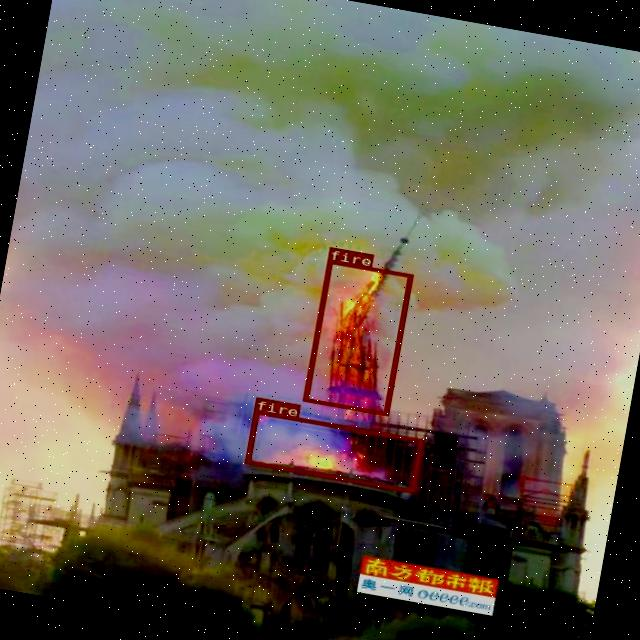fire: (301, 258, 412, 414), (243, 408, 422, 492)
